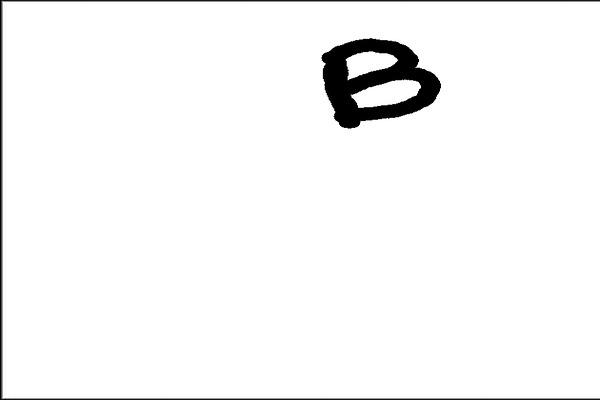B: (315, 33, 453, 139)
